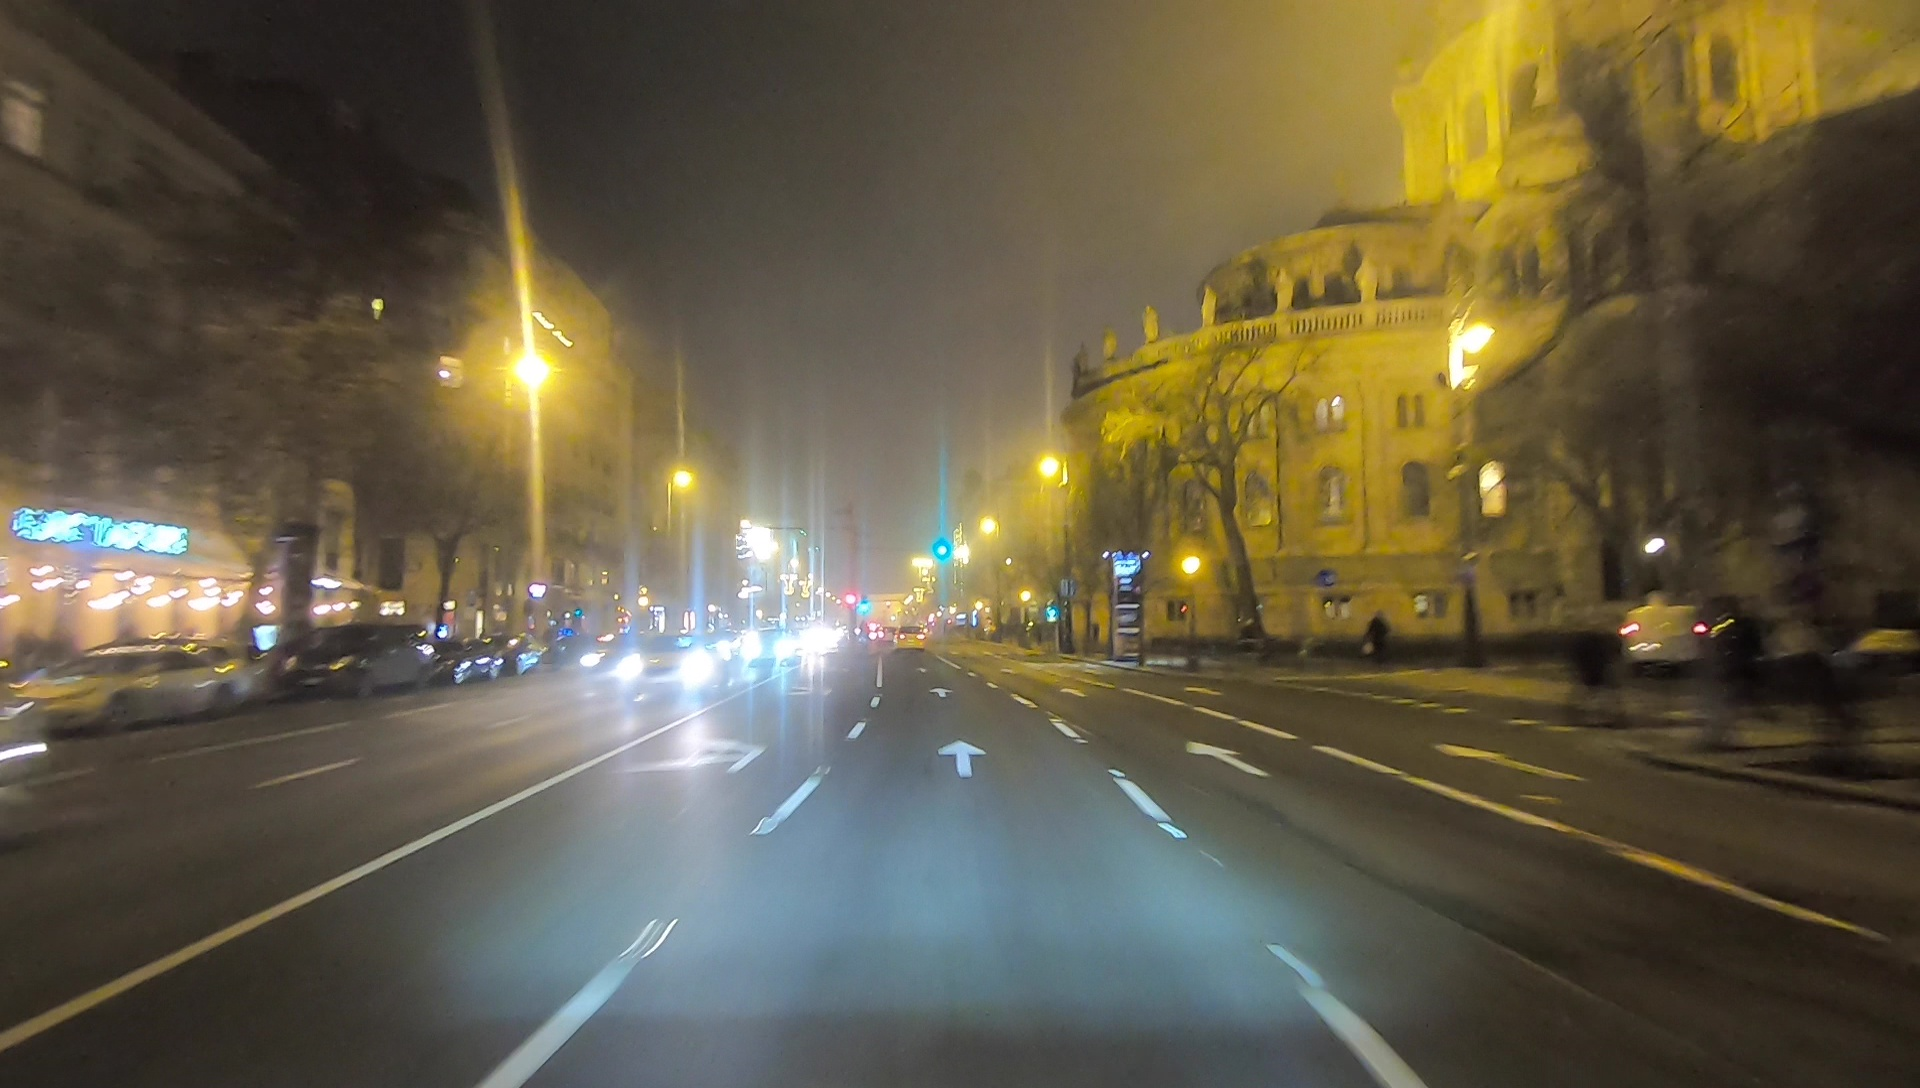person: (1701, 613, 1758, 750), (1567, 611, 1628, 730), (1365, 610, 1389, 676)
